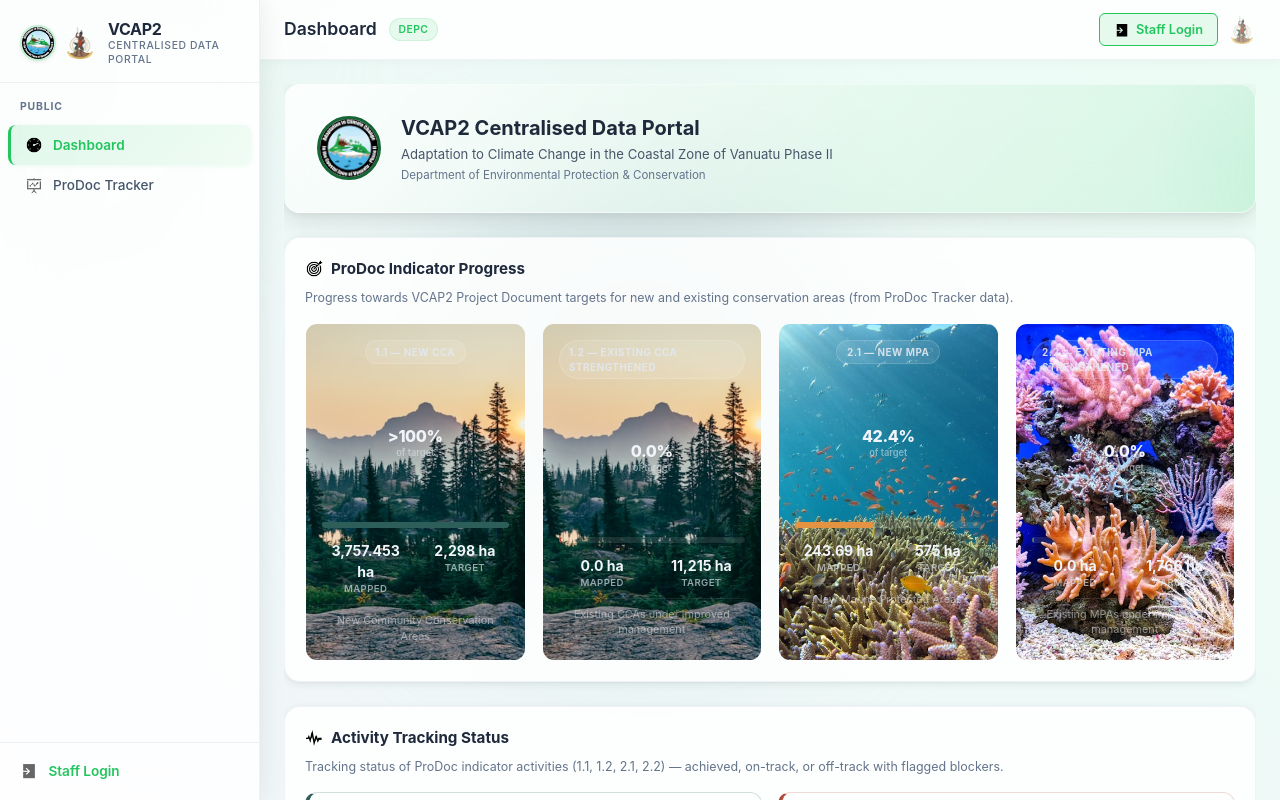
Test: App › shows login form when Staff Login is clicked
Click the 2nd button "Staff Login": point(130, 771) [0,751,259,791]
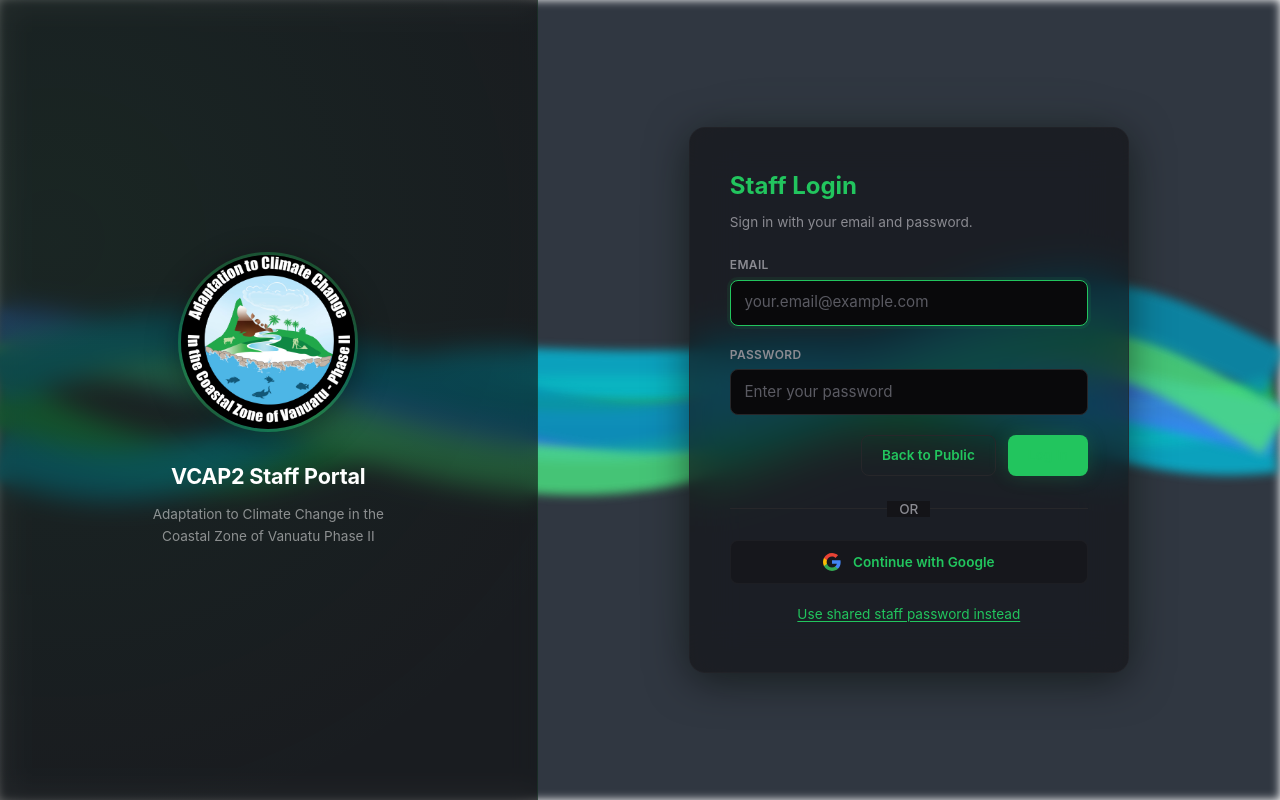
Expected: the field labelled "Email" is shown, [730,280,1088,326]
Expected: the password field labelled "Password" is shown, [730,369,1088,415]
